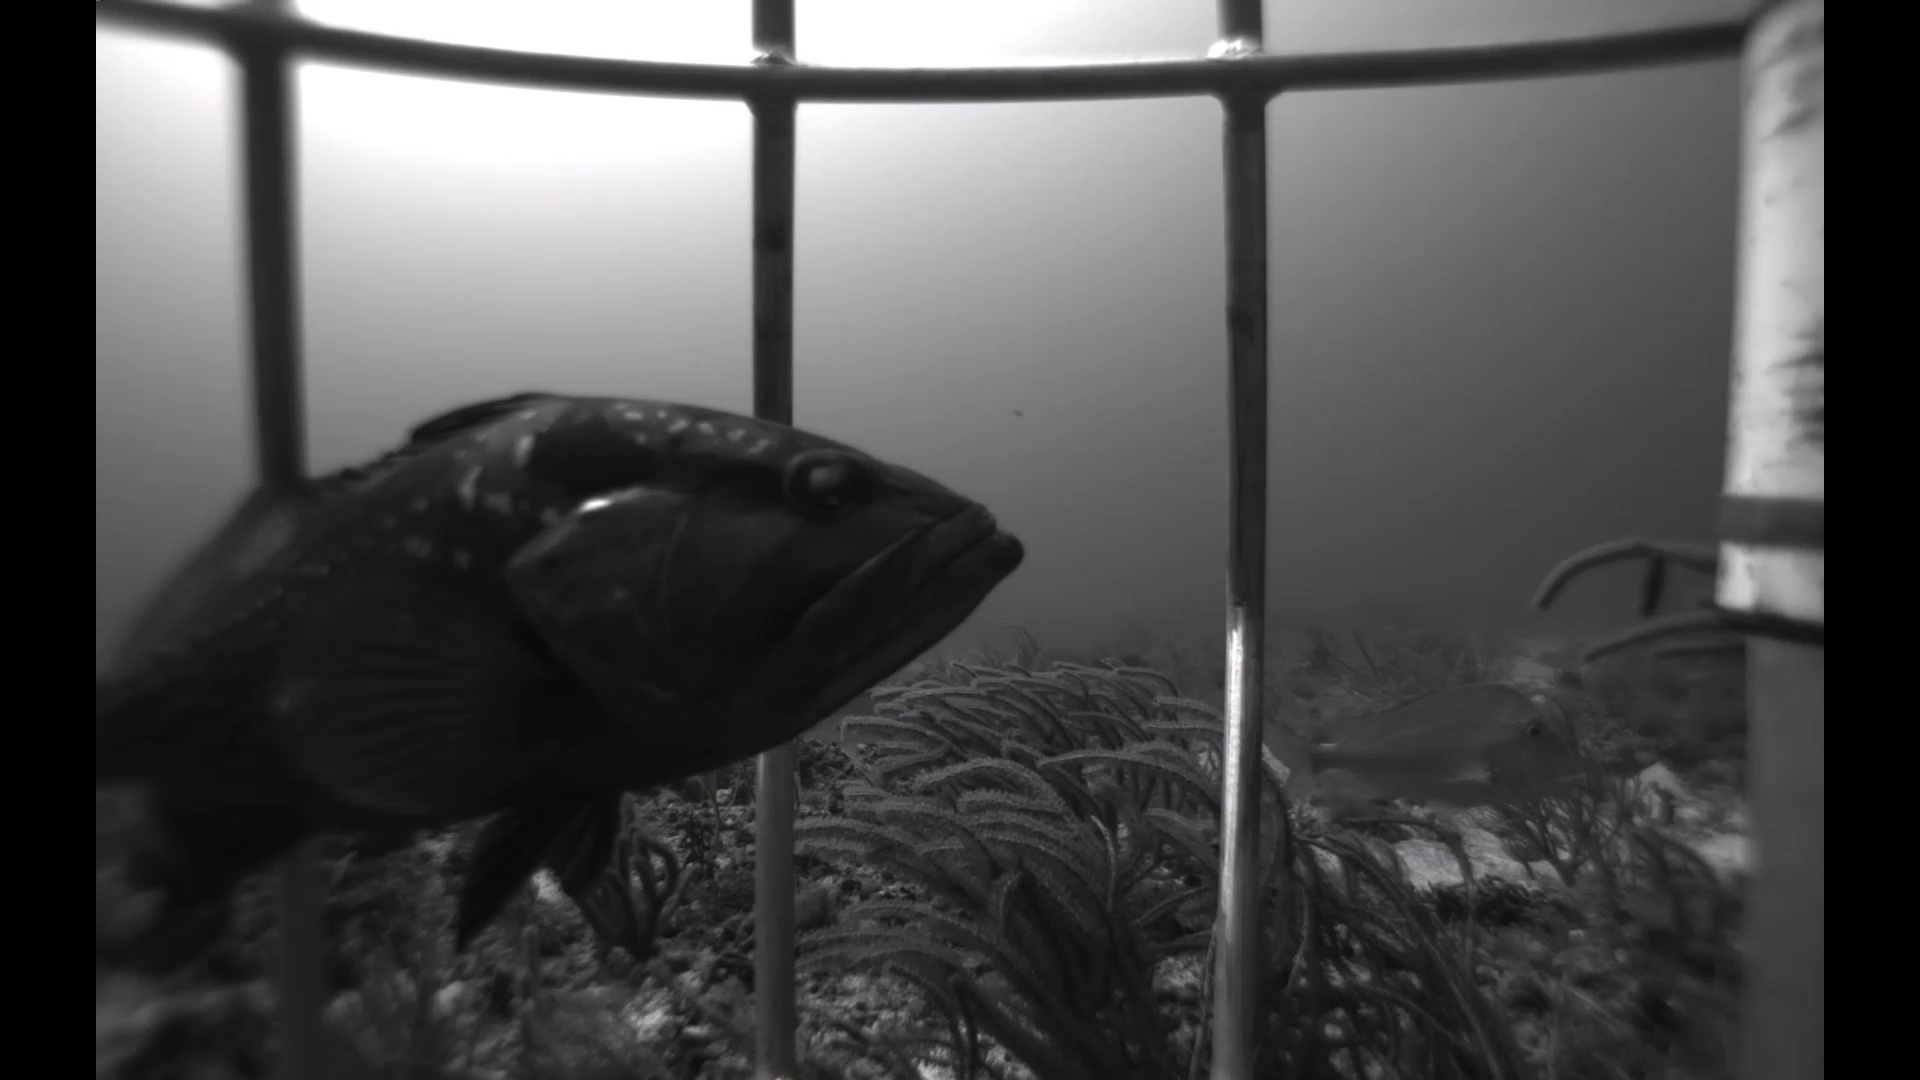CALAMUSNODOSUS-170210608: (1254, 673, 1586, 828)
EPINEPHELUSMORIO-170021211: (105, 372, 1062, 963)
LUTJANUSGRISEUS-170151109: (799, 679, 910, 760)
